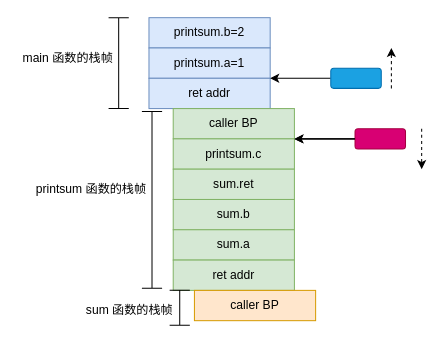
Some shapes in this 447 by 343 pixel diagram are drawn without their labels. Each missing label, with the box of its shape:
FP: (330, 67, 381, 88)
SP: (354, 128, 406, 149)
